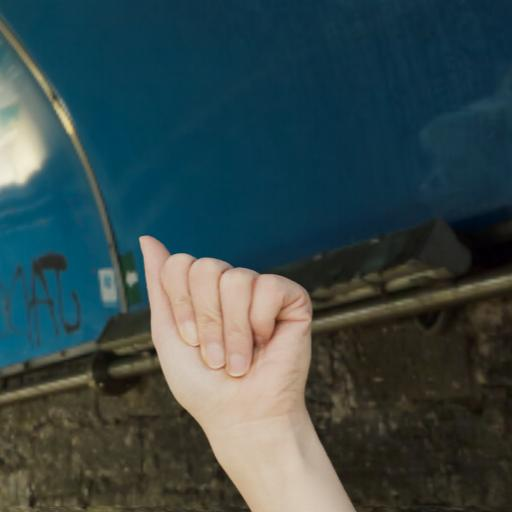A: (126, 224, 335, 459)
